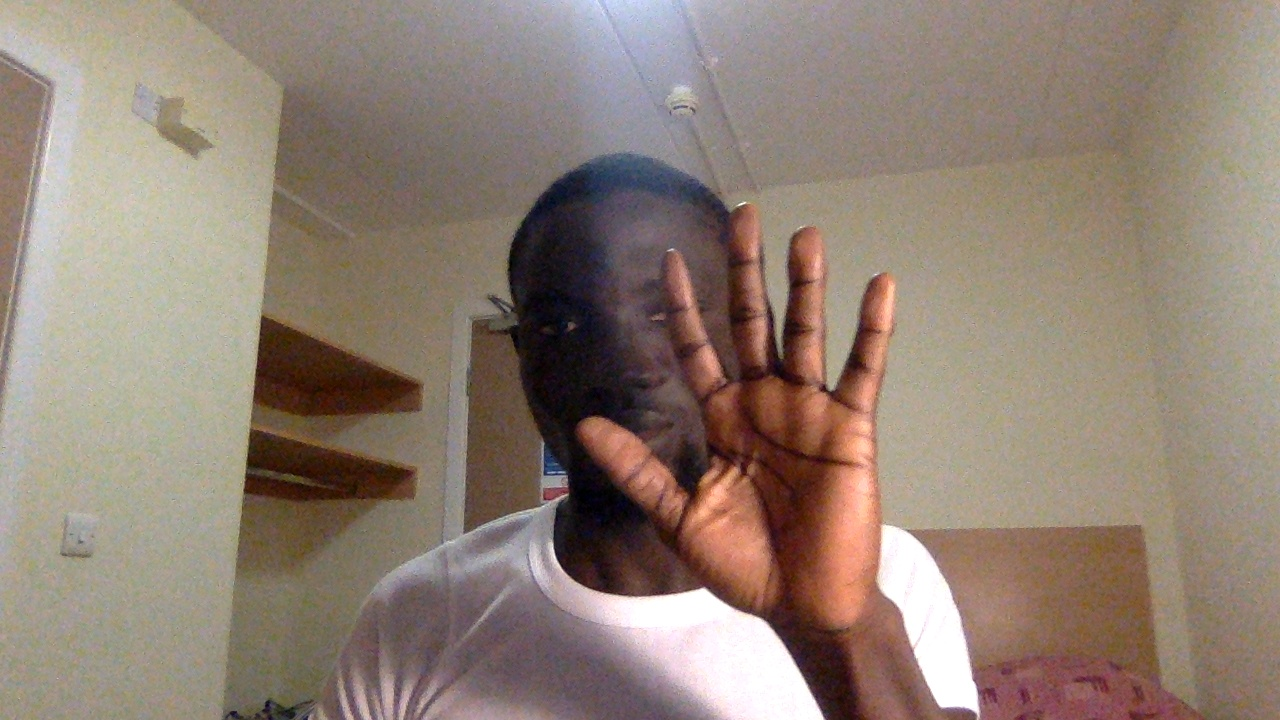Hello: (548, 188, 953, 677)
